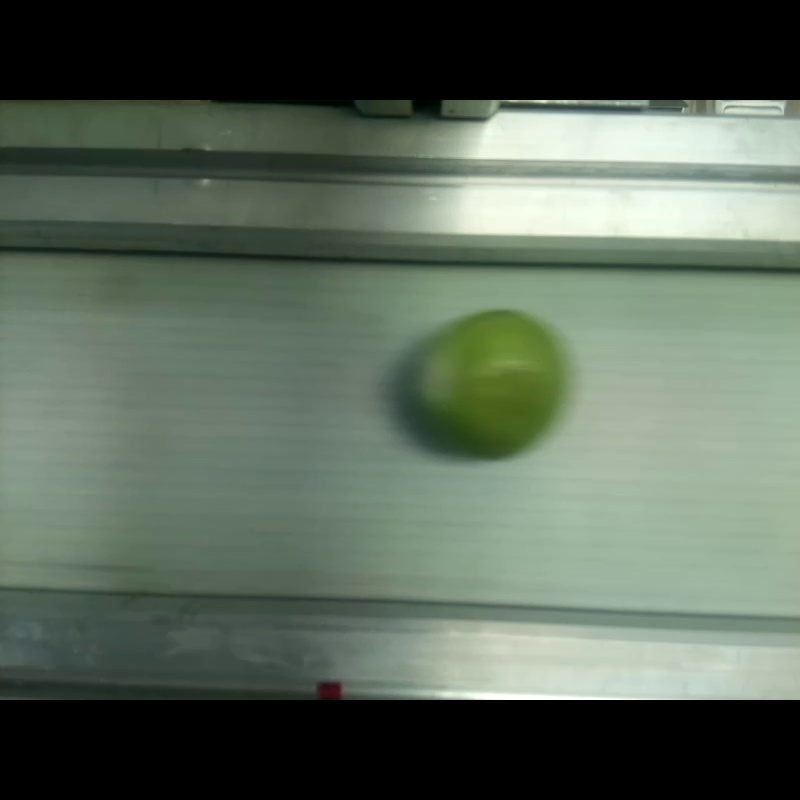lime: (403, 310, 562, 457)
